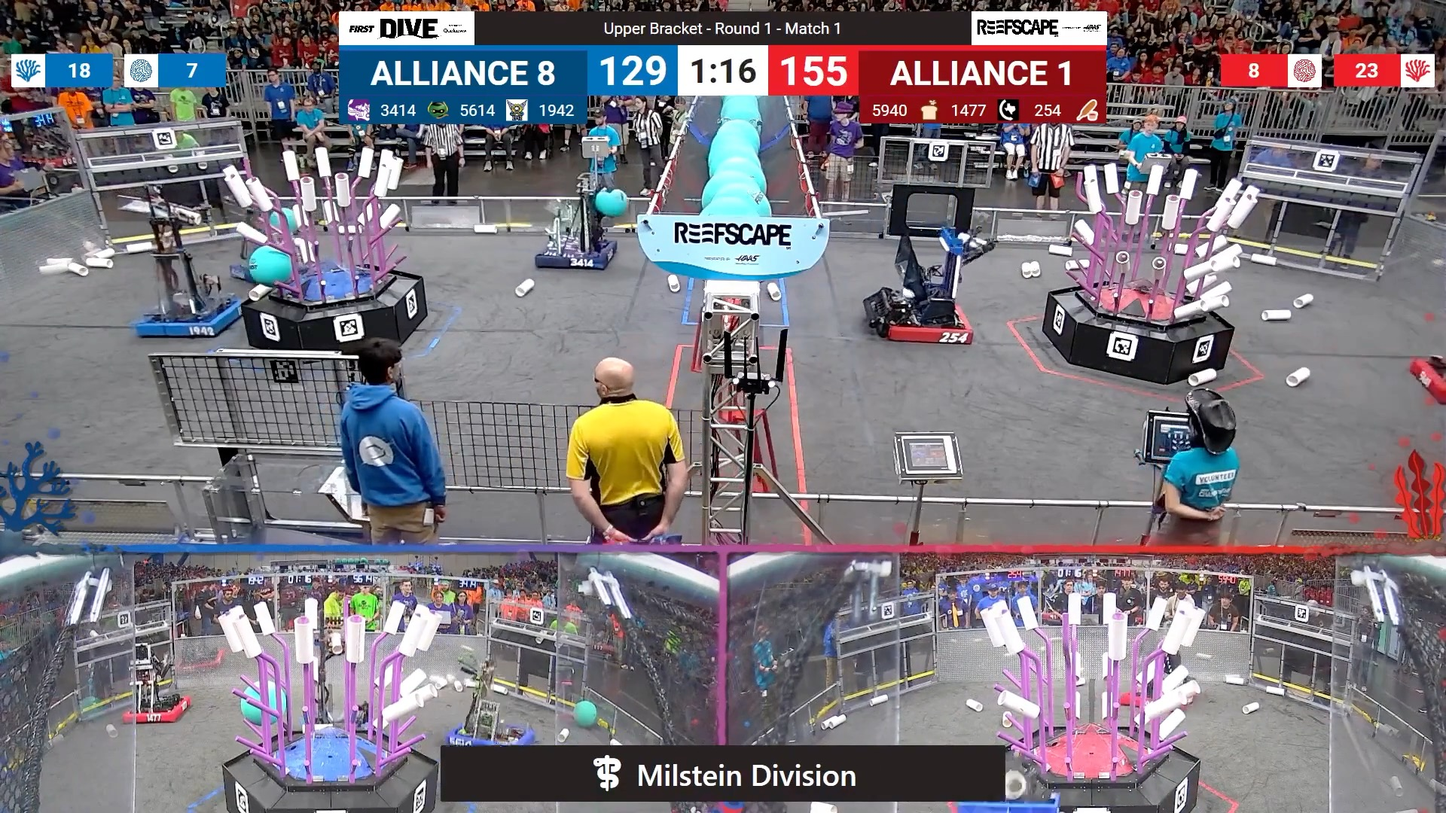bumpers: (866, 291, 986, 355), (133, 289, 250, 343), (530, 232, 624, 276), (443, 715, 539, 751), (1403, 348, 1446, 410), (119, 694, 199, 727)
